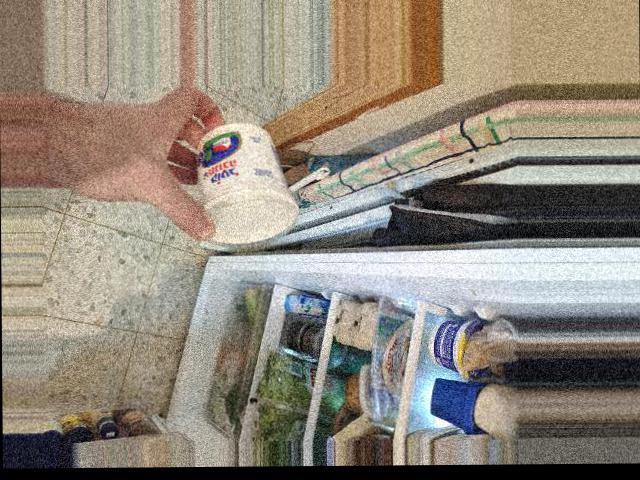cotage: (185, 117, 295, 241)
